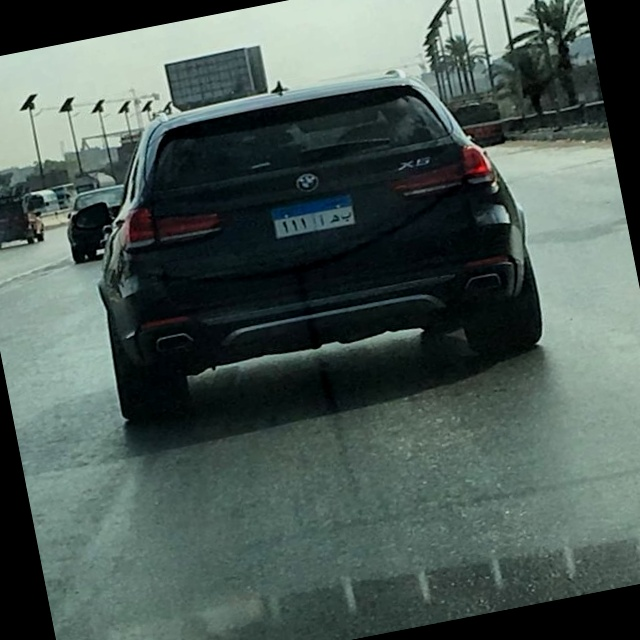License Plate: (268, 190, 359, 241)
